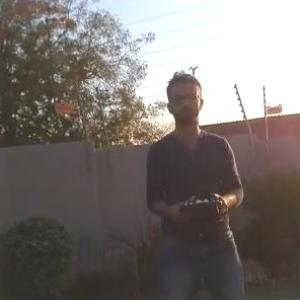follow: (141, 63, 251, 299)
